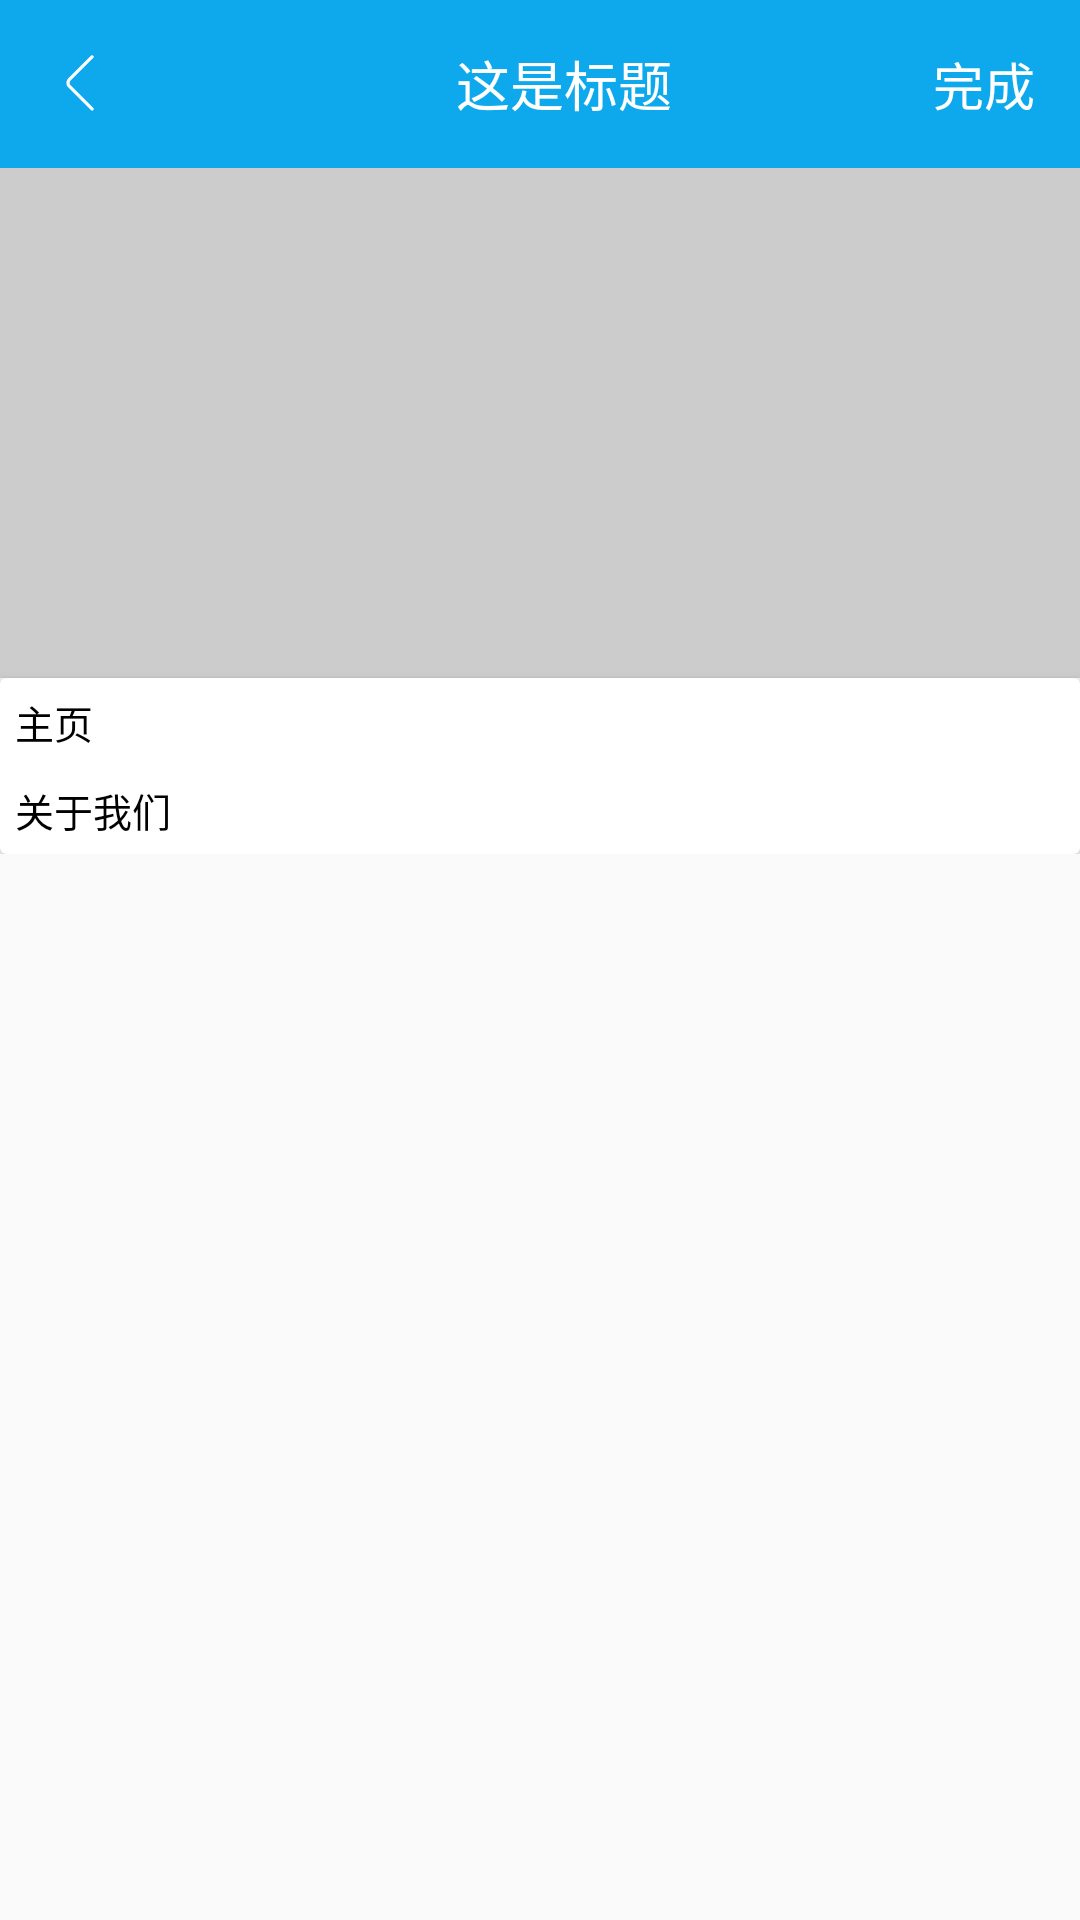

Point at icon controls on the screen. Image size 1080×1920, points as point (x, y).
back: point (80, 83)
